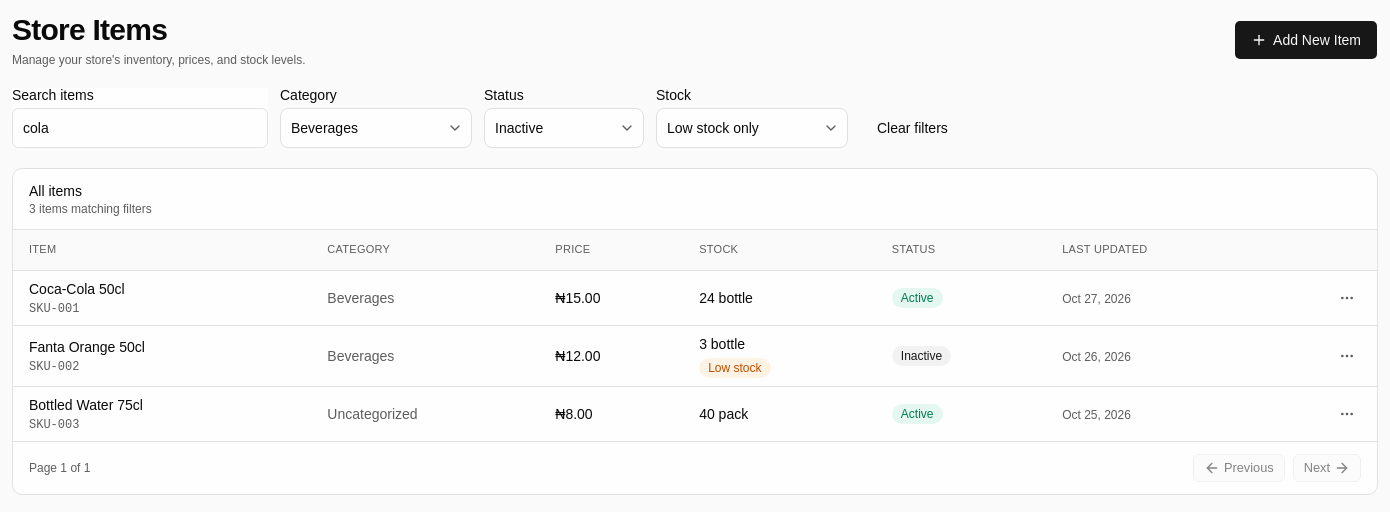
ItemPage › clears URL filters and resets to the first page
This screenshot has width=1390, height=512.
Check: the text "Coca-Cola 50cl" is shown, box [29,280,125,296]
What coordinates should you click on to do the following:
click the button "Clear filters"
I would click on:
 (912, 128)
Its box is [860,108,965,148].
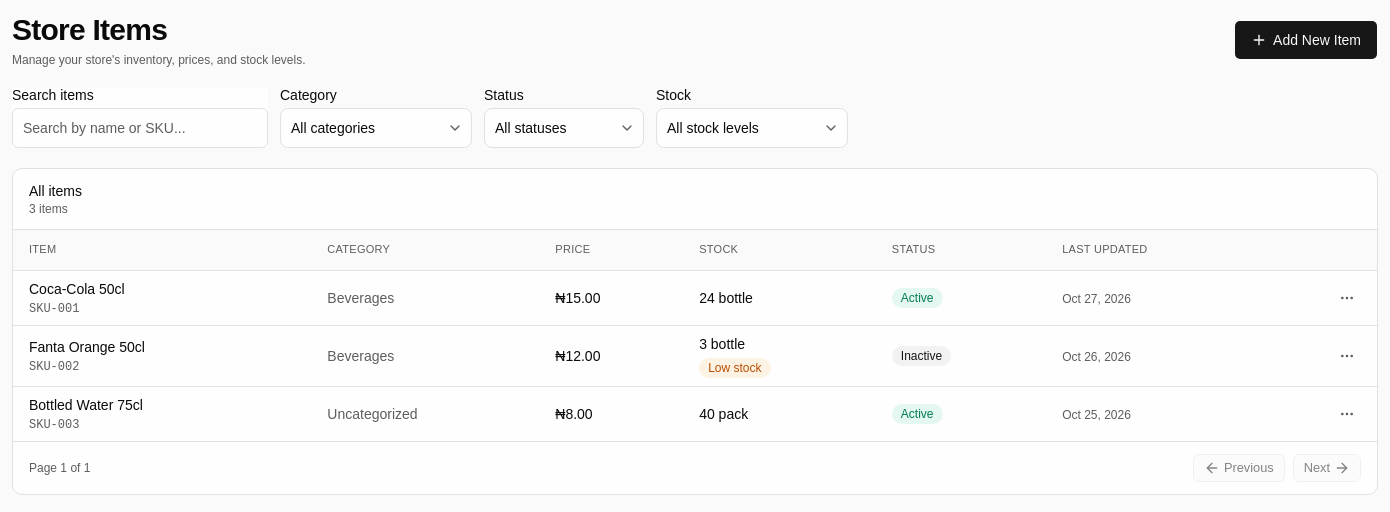
Check: the button "Clear filters" is gone
